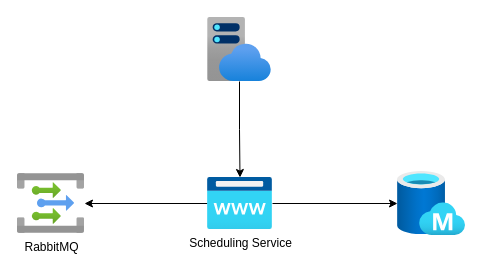
The diagram is 482 pixels wide and 273 high, and some of its shapes have lost their labels. The shapes that lost their labels are listed below. From the top down, each one's centre as x and y in pixels, then its label:
At pixel 239 49: "Dashboard".
At pixel 431 203: "MongoDB".
